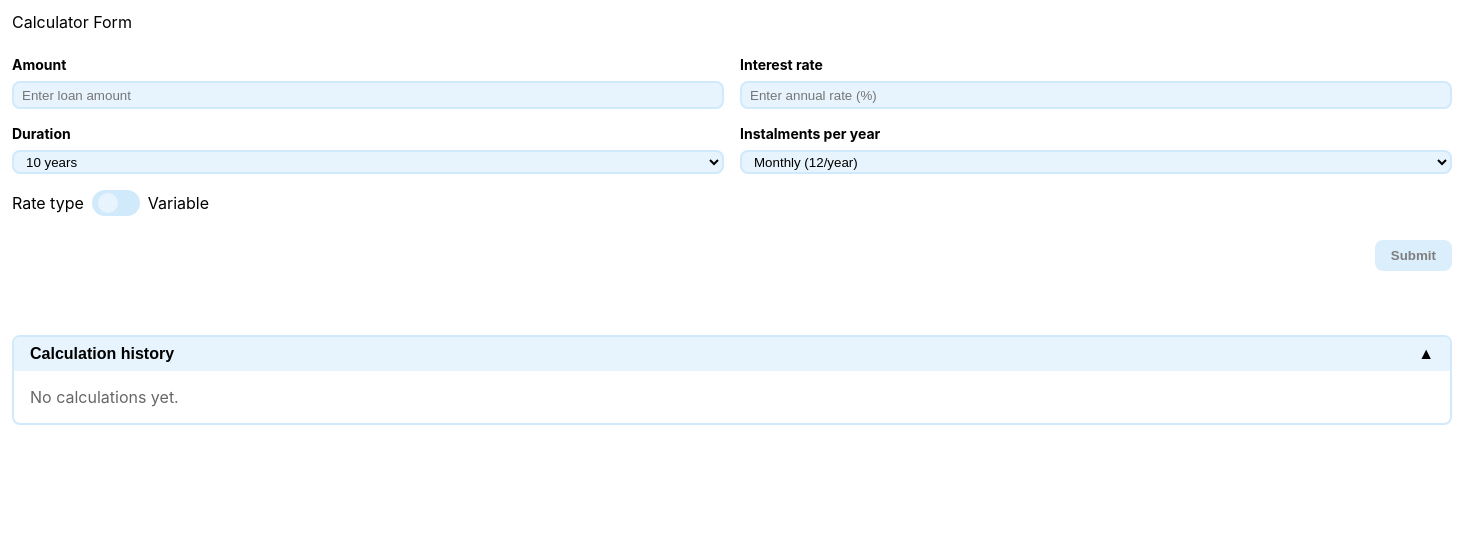
Test case: CalculatorForm › calculates and displays the payment on submit
Type "200000" into the number field labelled "Amount" at [368, 95], box top-left (12, 81), bottom-right (724, 109)
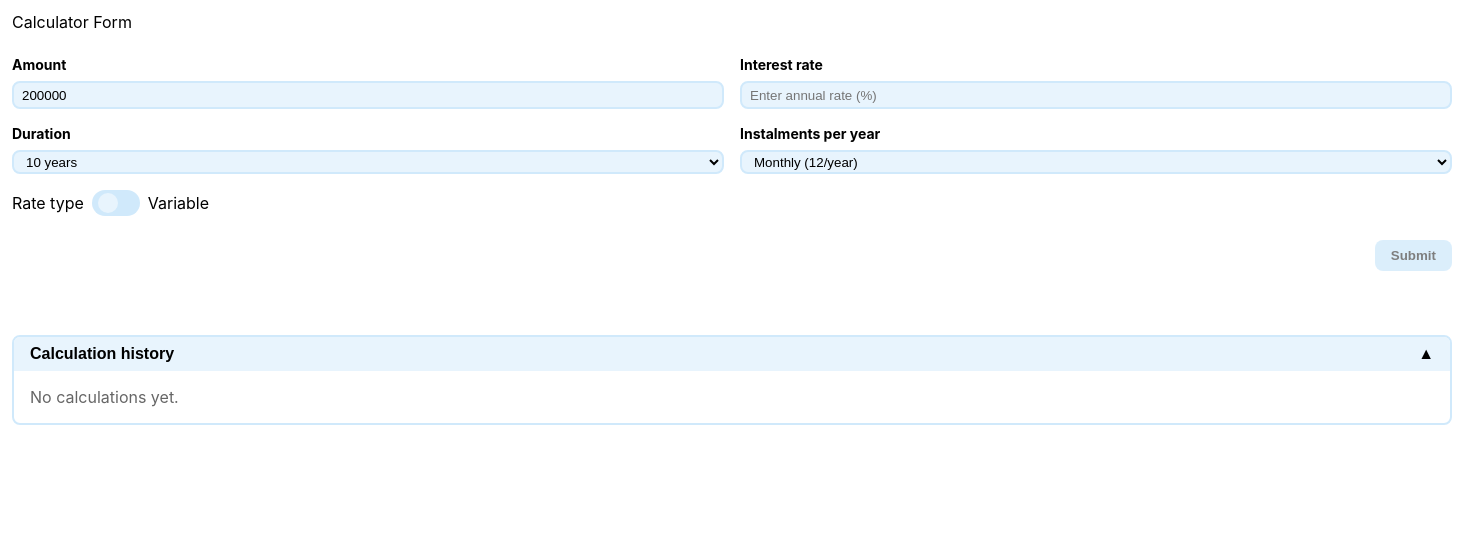
Type "5" into the number field labelled "Interest rate" at [1096, 95], box top-left (740, 81), bottom-right (1452, 109)
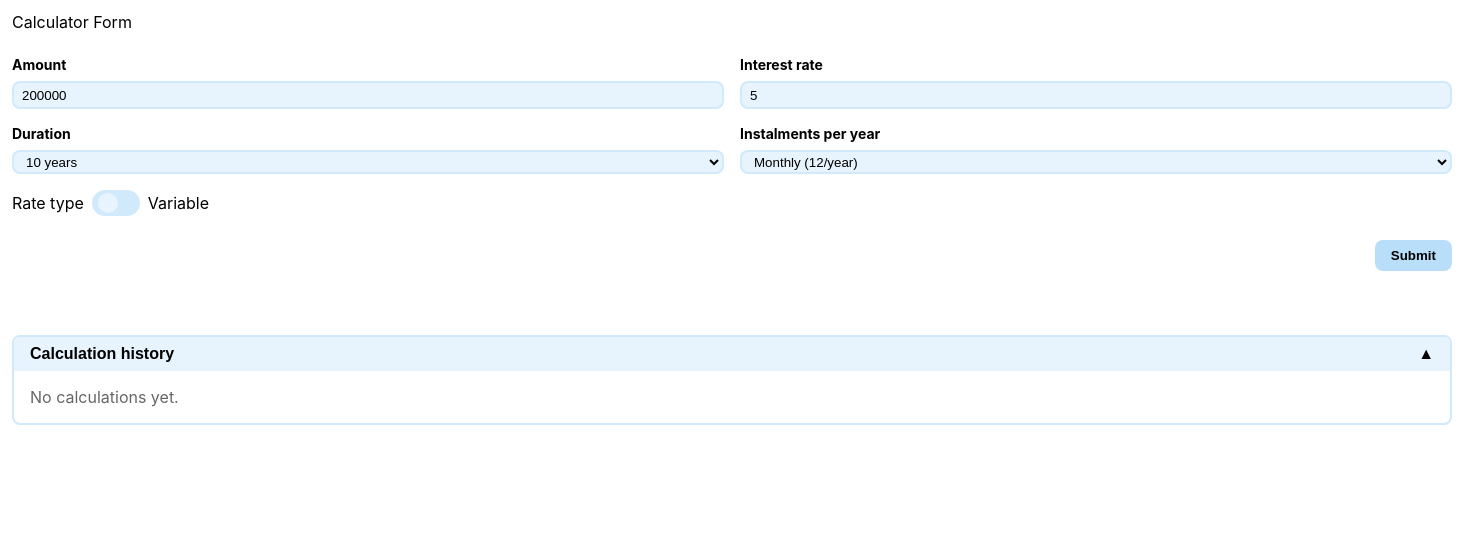
Select "30 years" in the dropdown labelled "Duration" at [368, 162], box top-left (12, 150), bottom-right (724, 174)
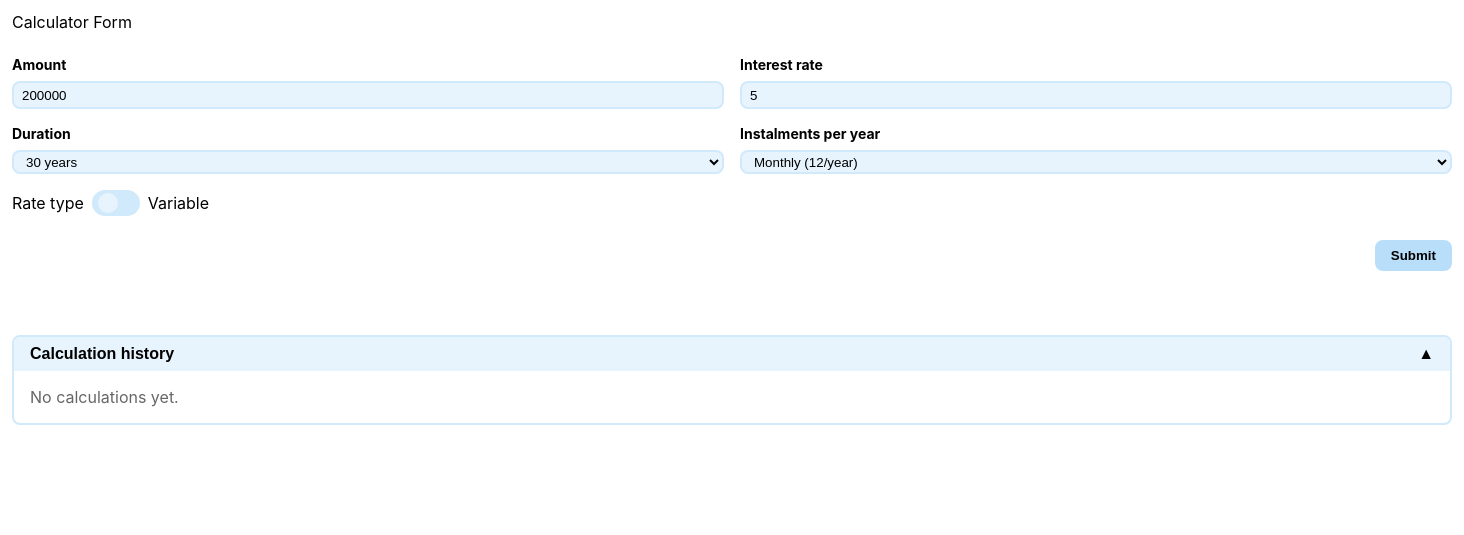
Select "Monthly (12/year)" in the dropdown labelled "Instalments per year" at [1096, 162], box top-left (740, 150), bottom-right (1452, 174)
Click the button "Submit" at [1413, 256], box top-left (1375, 240), bottom-right (1452, 271)
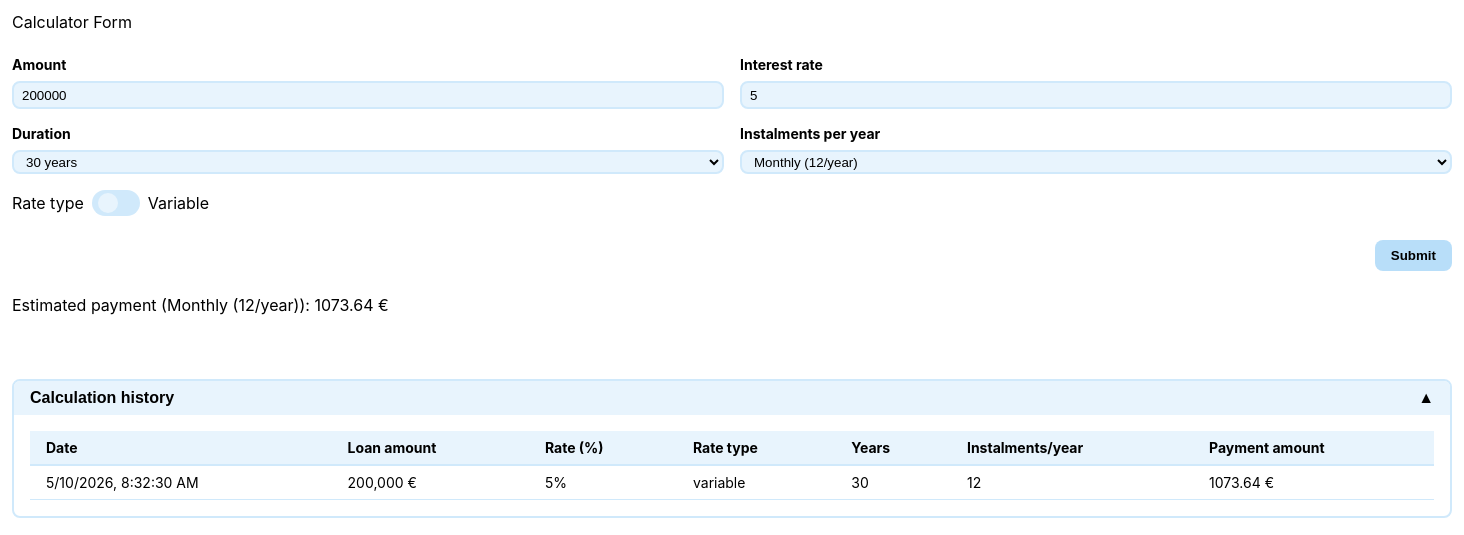
expect the text "Estimated payment (Monthly (12/year)): 1073.64 €" is shown: met, box top-left (12, 295), bottom-right (389, 315)
